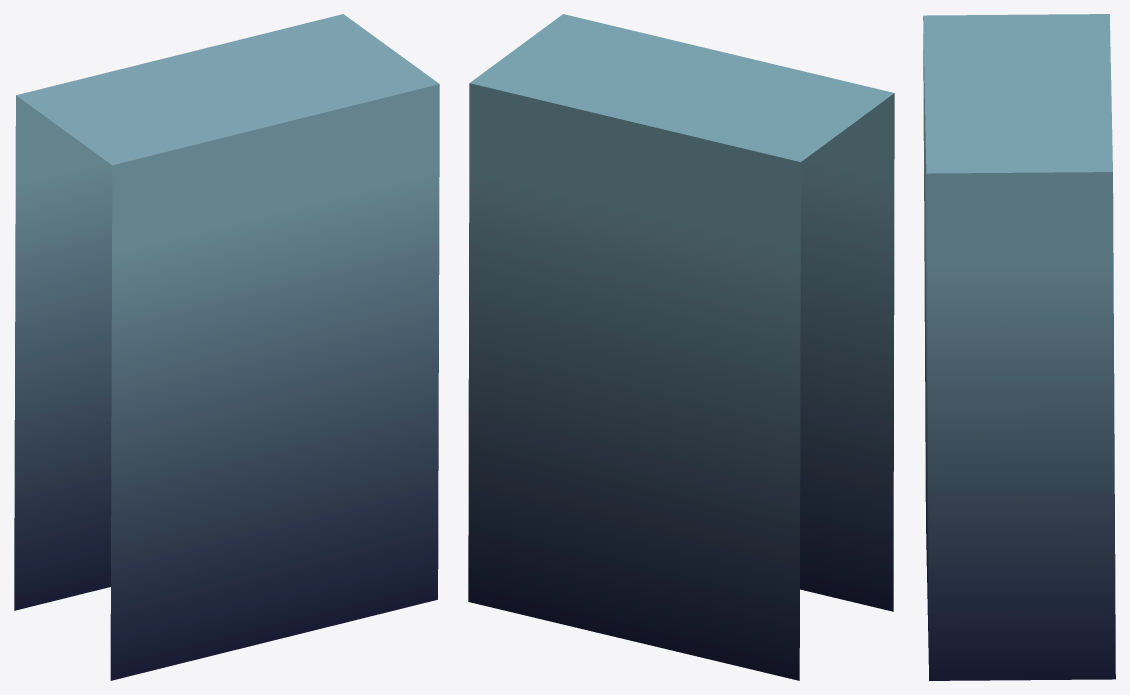
File: Pared3.fbx
3 renders of one model, left to right at view 1: azimuth 30°, elevation 25°; view 2: azimuth 150°, elevation 25°; view 3: azimuth 270°, elevation 25°, orthographic.
Parts seen in each view (by area): view 1: 1Lineaa.007; view 2: 1Lineaa.007; view 3: 1Lineaa.007.
Boxes of the visible parts, x1,y1,x2,y2 form: 1Lineaa.007: [14, 14, 439, 680]; 1Lineaa.007: [468, 14, 894, 680]; 1Lineaa.007: [923, 14, 1115, 680].
Size of the model in its own units: 402 by 601 by 206.
